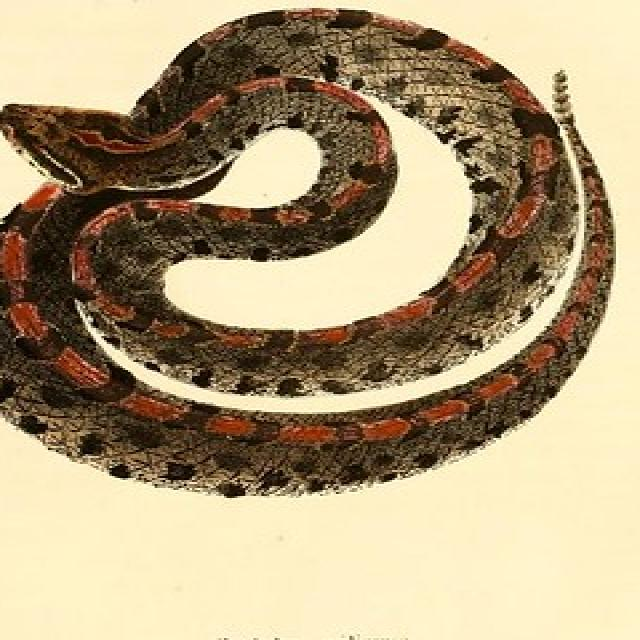Snake: (0, 4, 616, 498)
